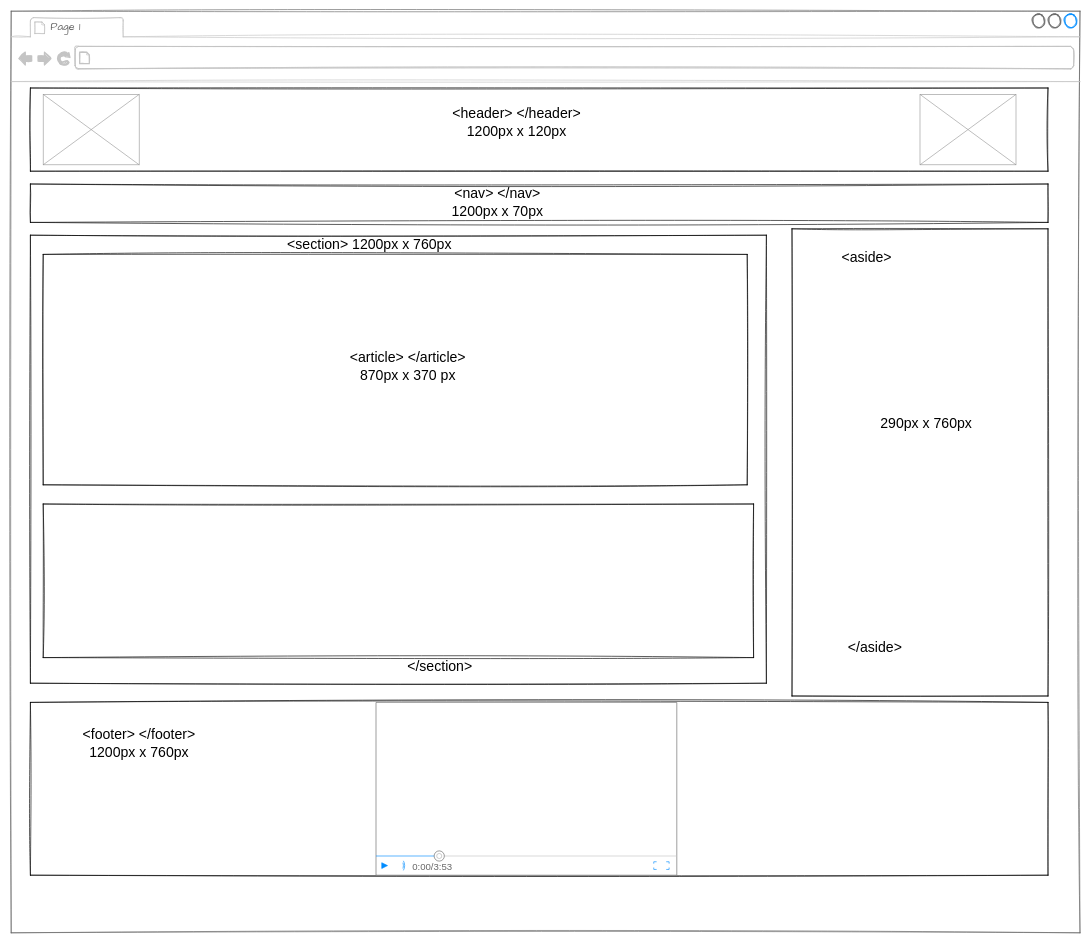
Image size: 1091x944. Some labels were removed from this diagram. The shapes that lost their labels are listed below. From the top down, each one's centre as x and y in pixels, then its label:
the point at 174,57: https://www.draw.io
the point at 398,580: <article> </ article > 870px x 320px
